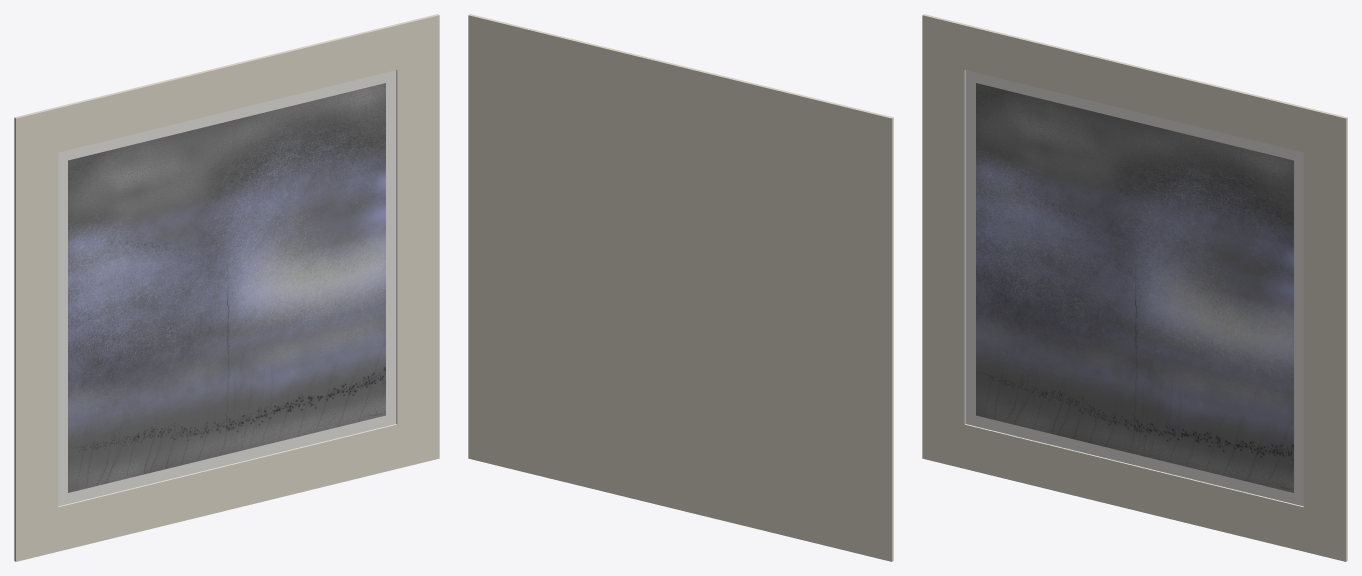
File: va363_moyen_passe-partout.glb
3 views of the same model, side by side, from view 1: azimuth 30°, elevation 25°; view 2: azimuth 150°, elevation 25°; view 3: azimuth 330°, elevation 25° (orthographic).
Parts seen in each view (by area): view 1: va363_moyen_passe-partout; view 2: va363_moyen_passe-partout; view 3: va363_moyen_passe-partout.
Boxes of the visible parts, x1,y1,x2,y2 form: va363_moyen_passe-partout: (14,14,439,561); va363_moyen_passe-partout: (468,14,893,561); va363_moyen_passe-partout: (922,14,1347,561).
Size of the model in its own units: 0.8 by 0.8 by 0.0055.
4 materials, 1 textured.
